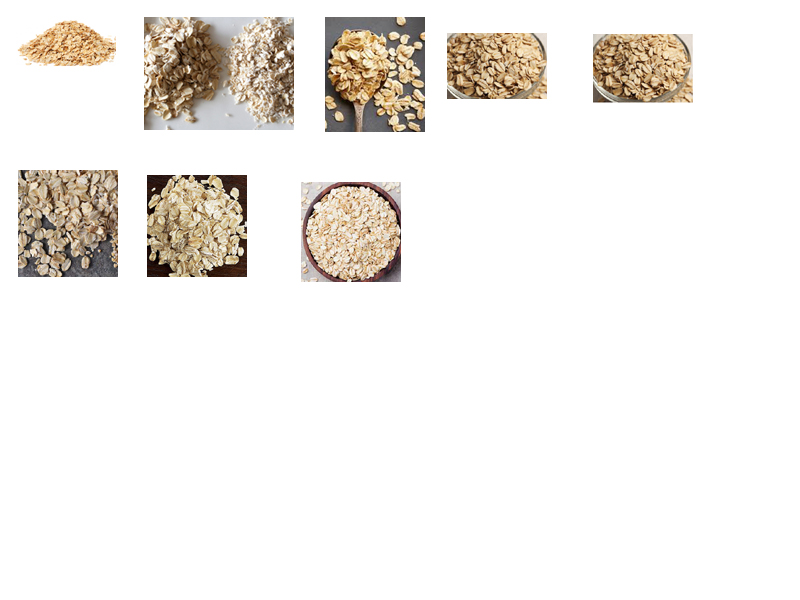oat: (299, 184, 399, 280), (148, 177, 244, 272), (22, 174, 110, 270), (11, 9, 118, 73), (146, 17, 212, 118), (232, 21, 295, 125), (593, 38, 690, 96), (447, 34, 536, 94), (328, 30, 385, 102)
